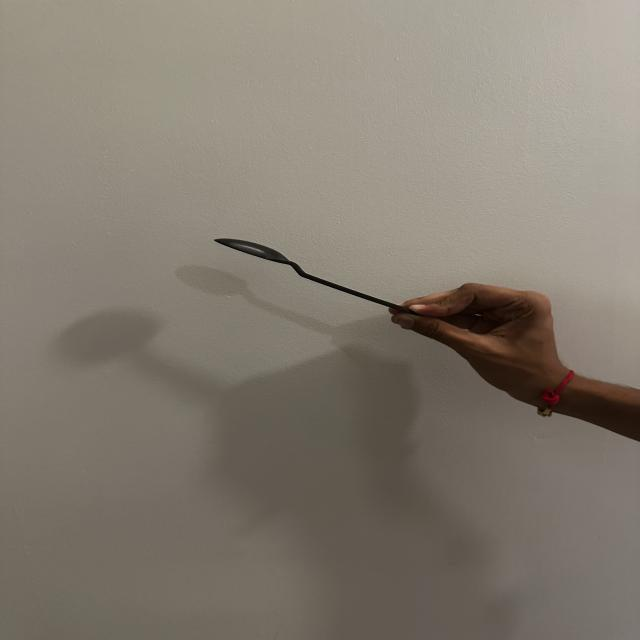spoon: (172, 224, 431, 342)
